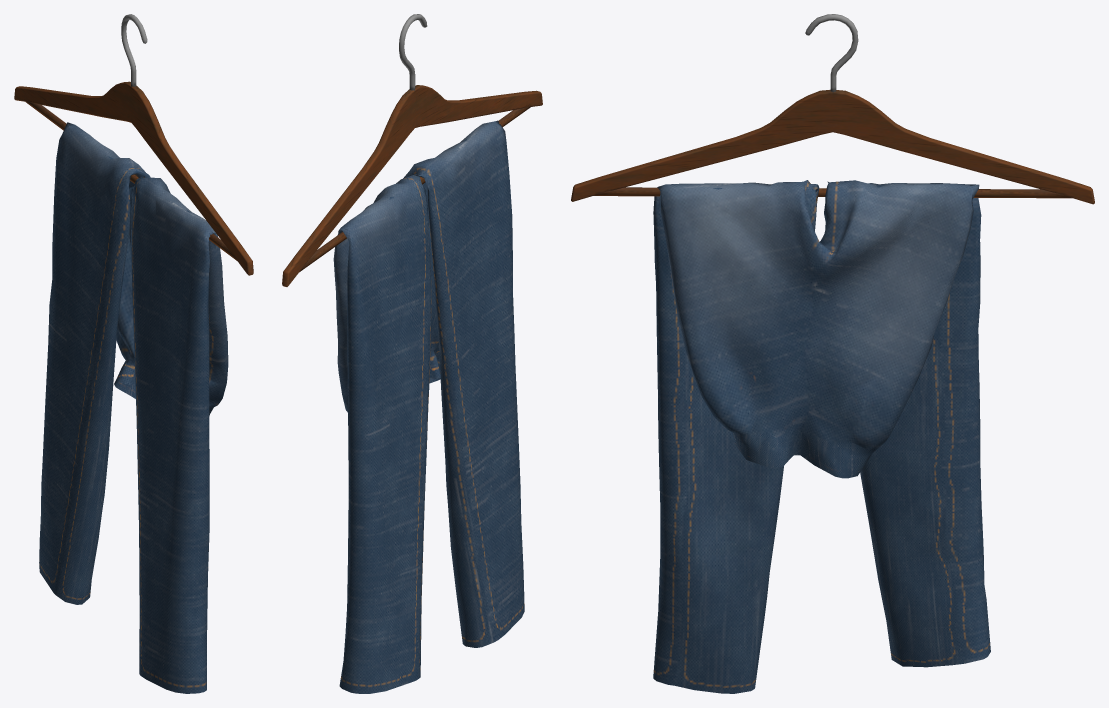
The model's file is SM_Cloth_B1.fbx.
The picture shows the model from 3 angles, left to right: view 1: azimuth 30°, elevation 25°; view 2: azimuth 150°, elevation 25°; view 3: azimuth 270°, elevation 25°; orthographic projection. The views are drawn at different scales.
Parts seen in each view (by area): view 1: SM_Cloth_B1; view 2: SM_Cloth_B1; view 3: SM_Cloth_B1.
Part boxes in pixels (<box>): SM_Cloth_B1: <box>14,14,253,693</box>; SM_Cloth_B1: <box>282,14,542,693</box>; SM_Cloth_B1: <box>571,14,1094,693</box>.
Bounding box in the file's own units: 12.95 × 62.12 × 89.23.
Materials: 2 (2 with a texture image).
